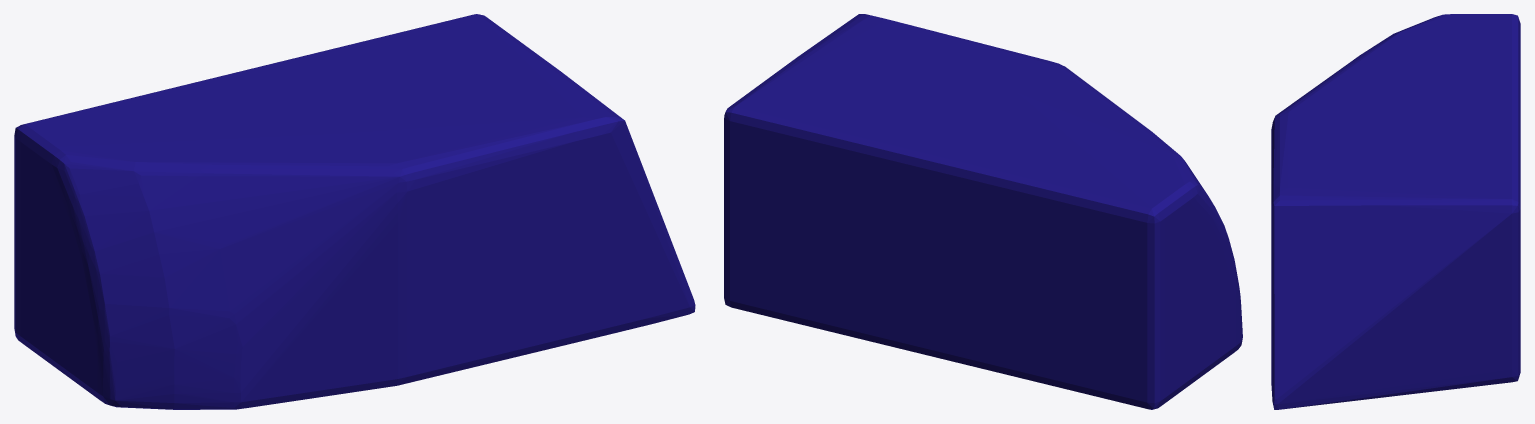
File: right_hip_yaw_link_part_20.obj
3 views of the same model, side by side, from view 1: azimuth 30°, elevation 25°; view 2: azimuth 150°, elevation 25°; view 3: azimuth 270°, elevation 25° (orthographic). The views are drawn at different scales.
Bounding box in the file's own units: 0.0859 × 0.0334 × 0.041.
